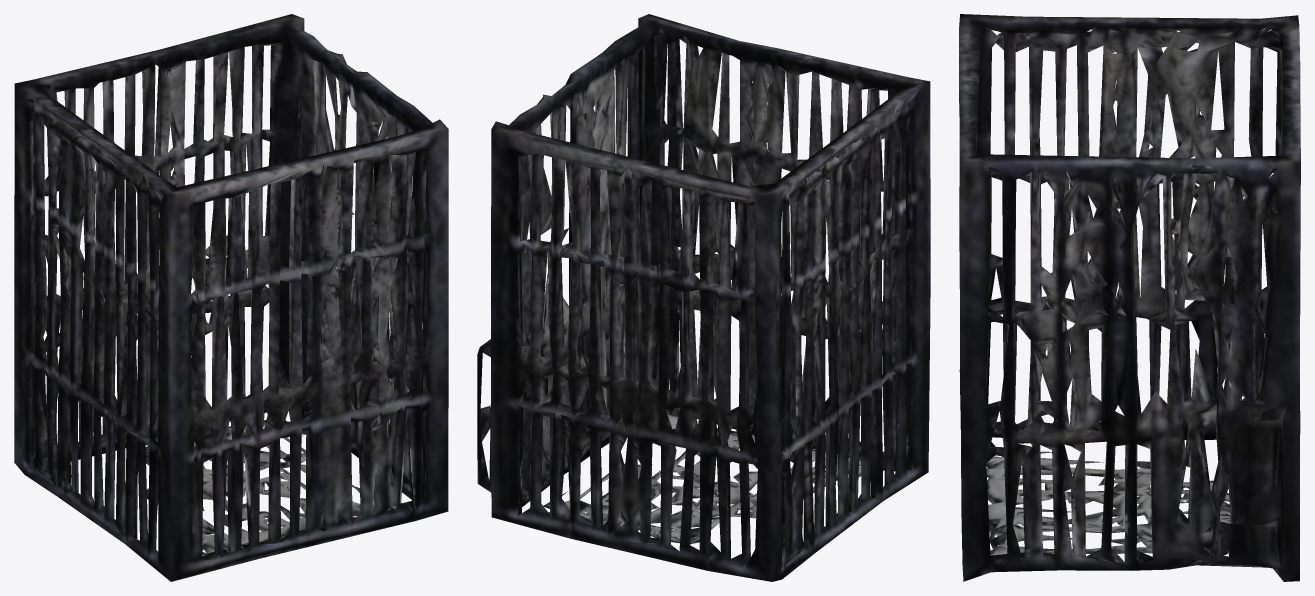
The model's file is Prison bars.fbx.
3 renders of one model, left to right at view 1: azimuth 30°, elevation 25°; view 2: azimuth 150°, elevation 25°; view 3: azimuth 270°, elevation 25°, orthographic. The views are drawn at different scales.
Parts seen in each view (by area): view 1: mesh; view 2: mesh; view 3: mesh.
Boxes of the visible parts, x1,y1,x2,y2 form: mesh: (14,14,448,581); mesh: (477,14,930,581); mesh: (959,14,1300,581).
Size of the model in its own units: 82.92 by 99.02 by 72.29.
